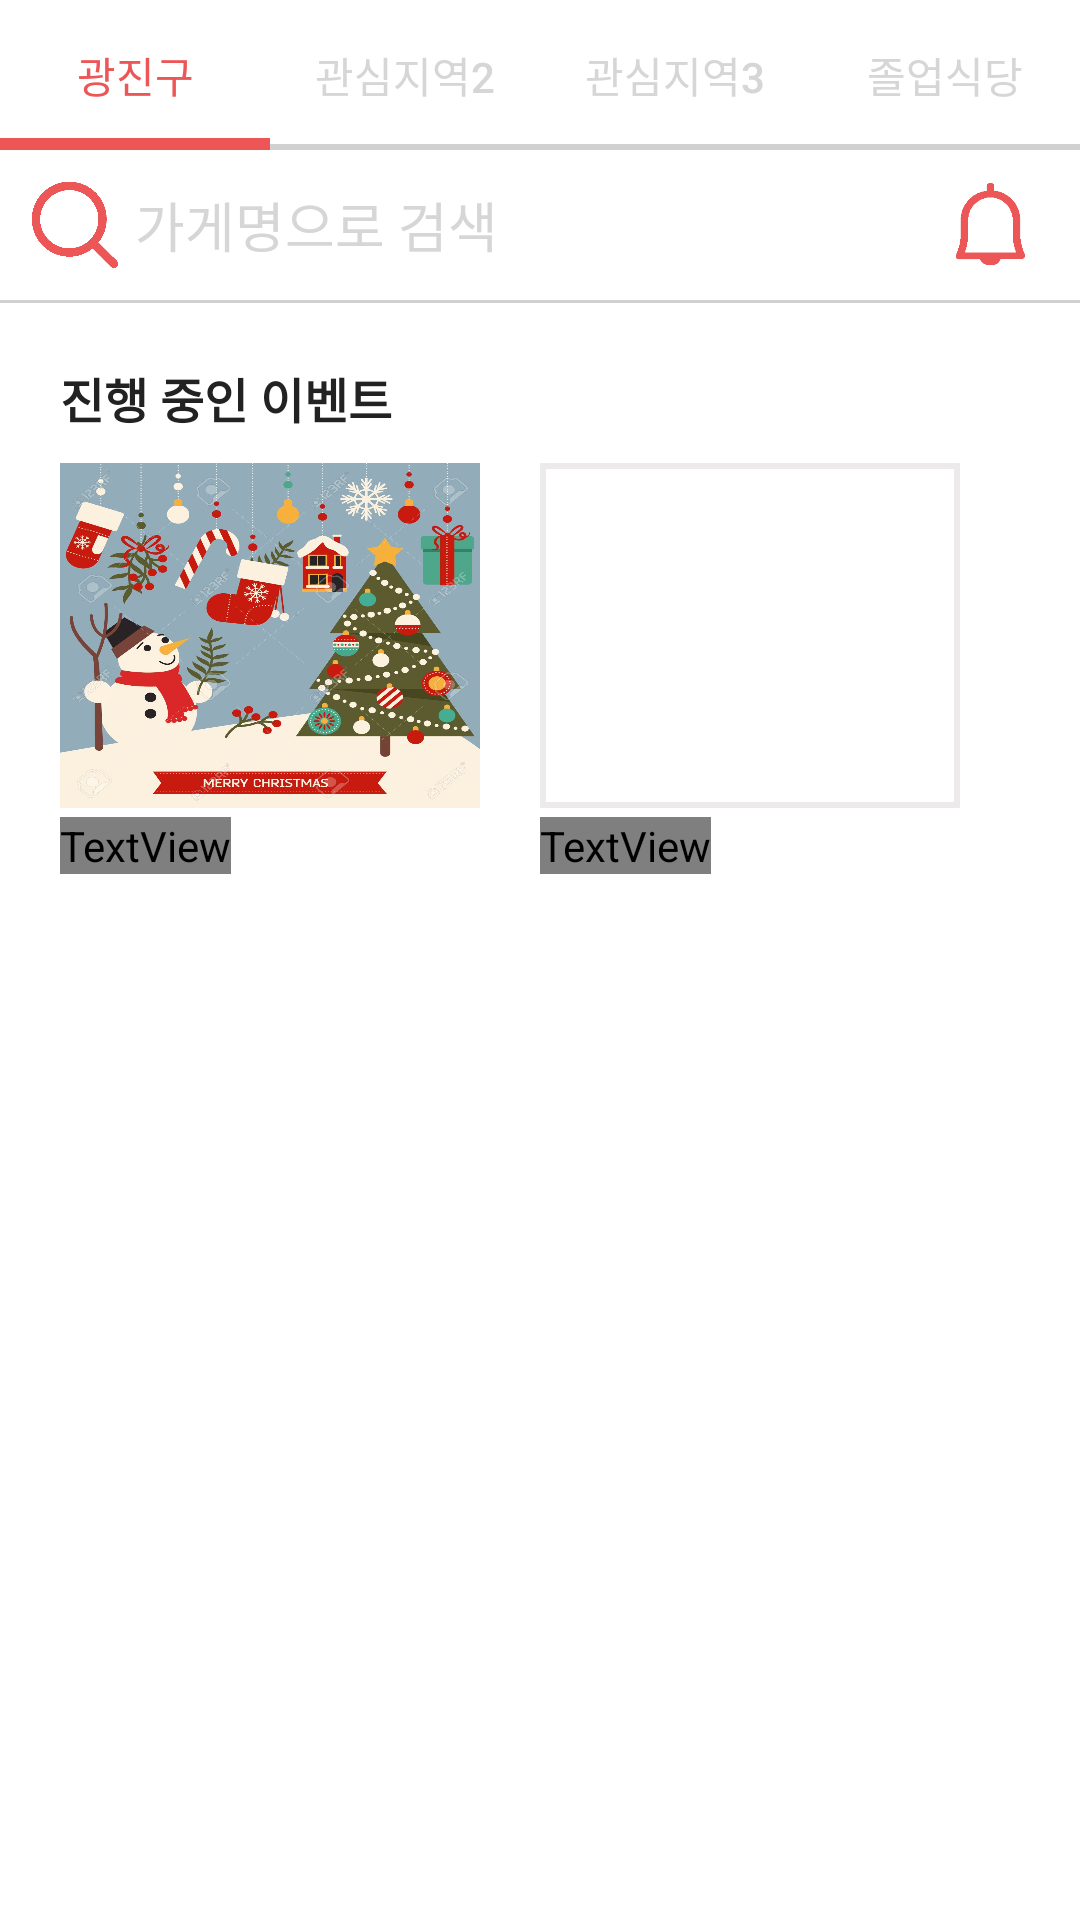

Point at icon controls on the screen. Image size 1080px×1920px, points as (x=x, y=y).
noti blank: (x=990, y=224)
search: (x=75, y=225)
